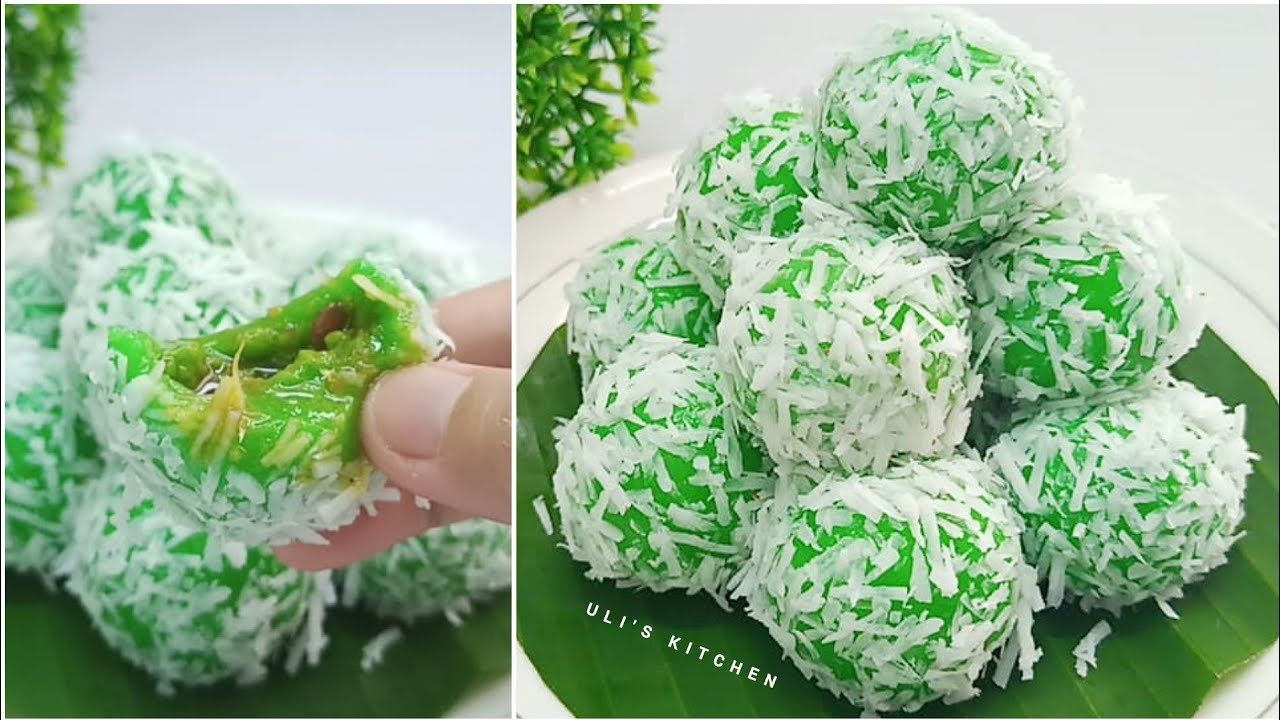klepon: (682, 214, 987, 465)
